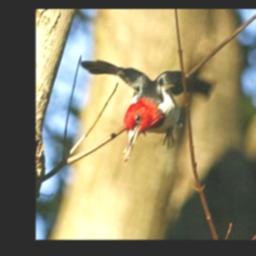Woodpecker: (72, 50, 214, 164)
